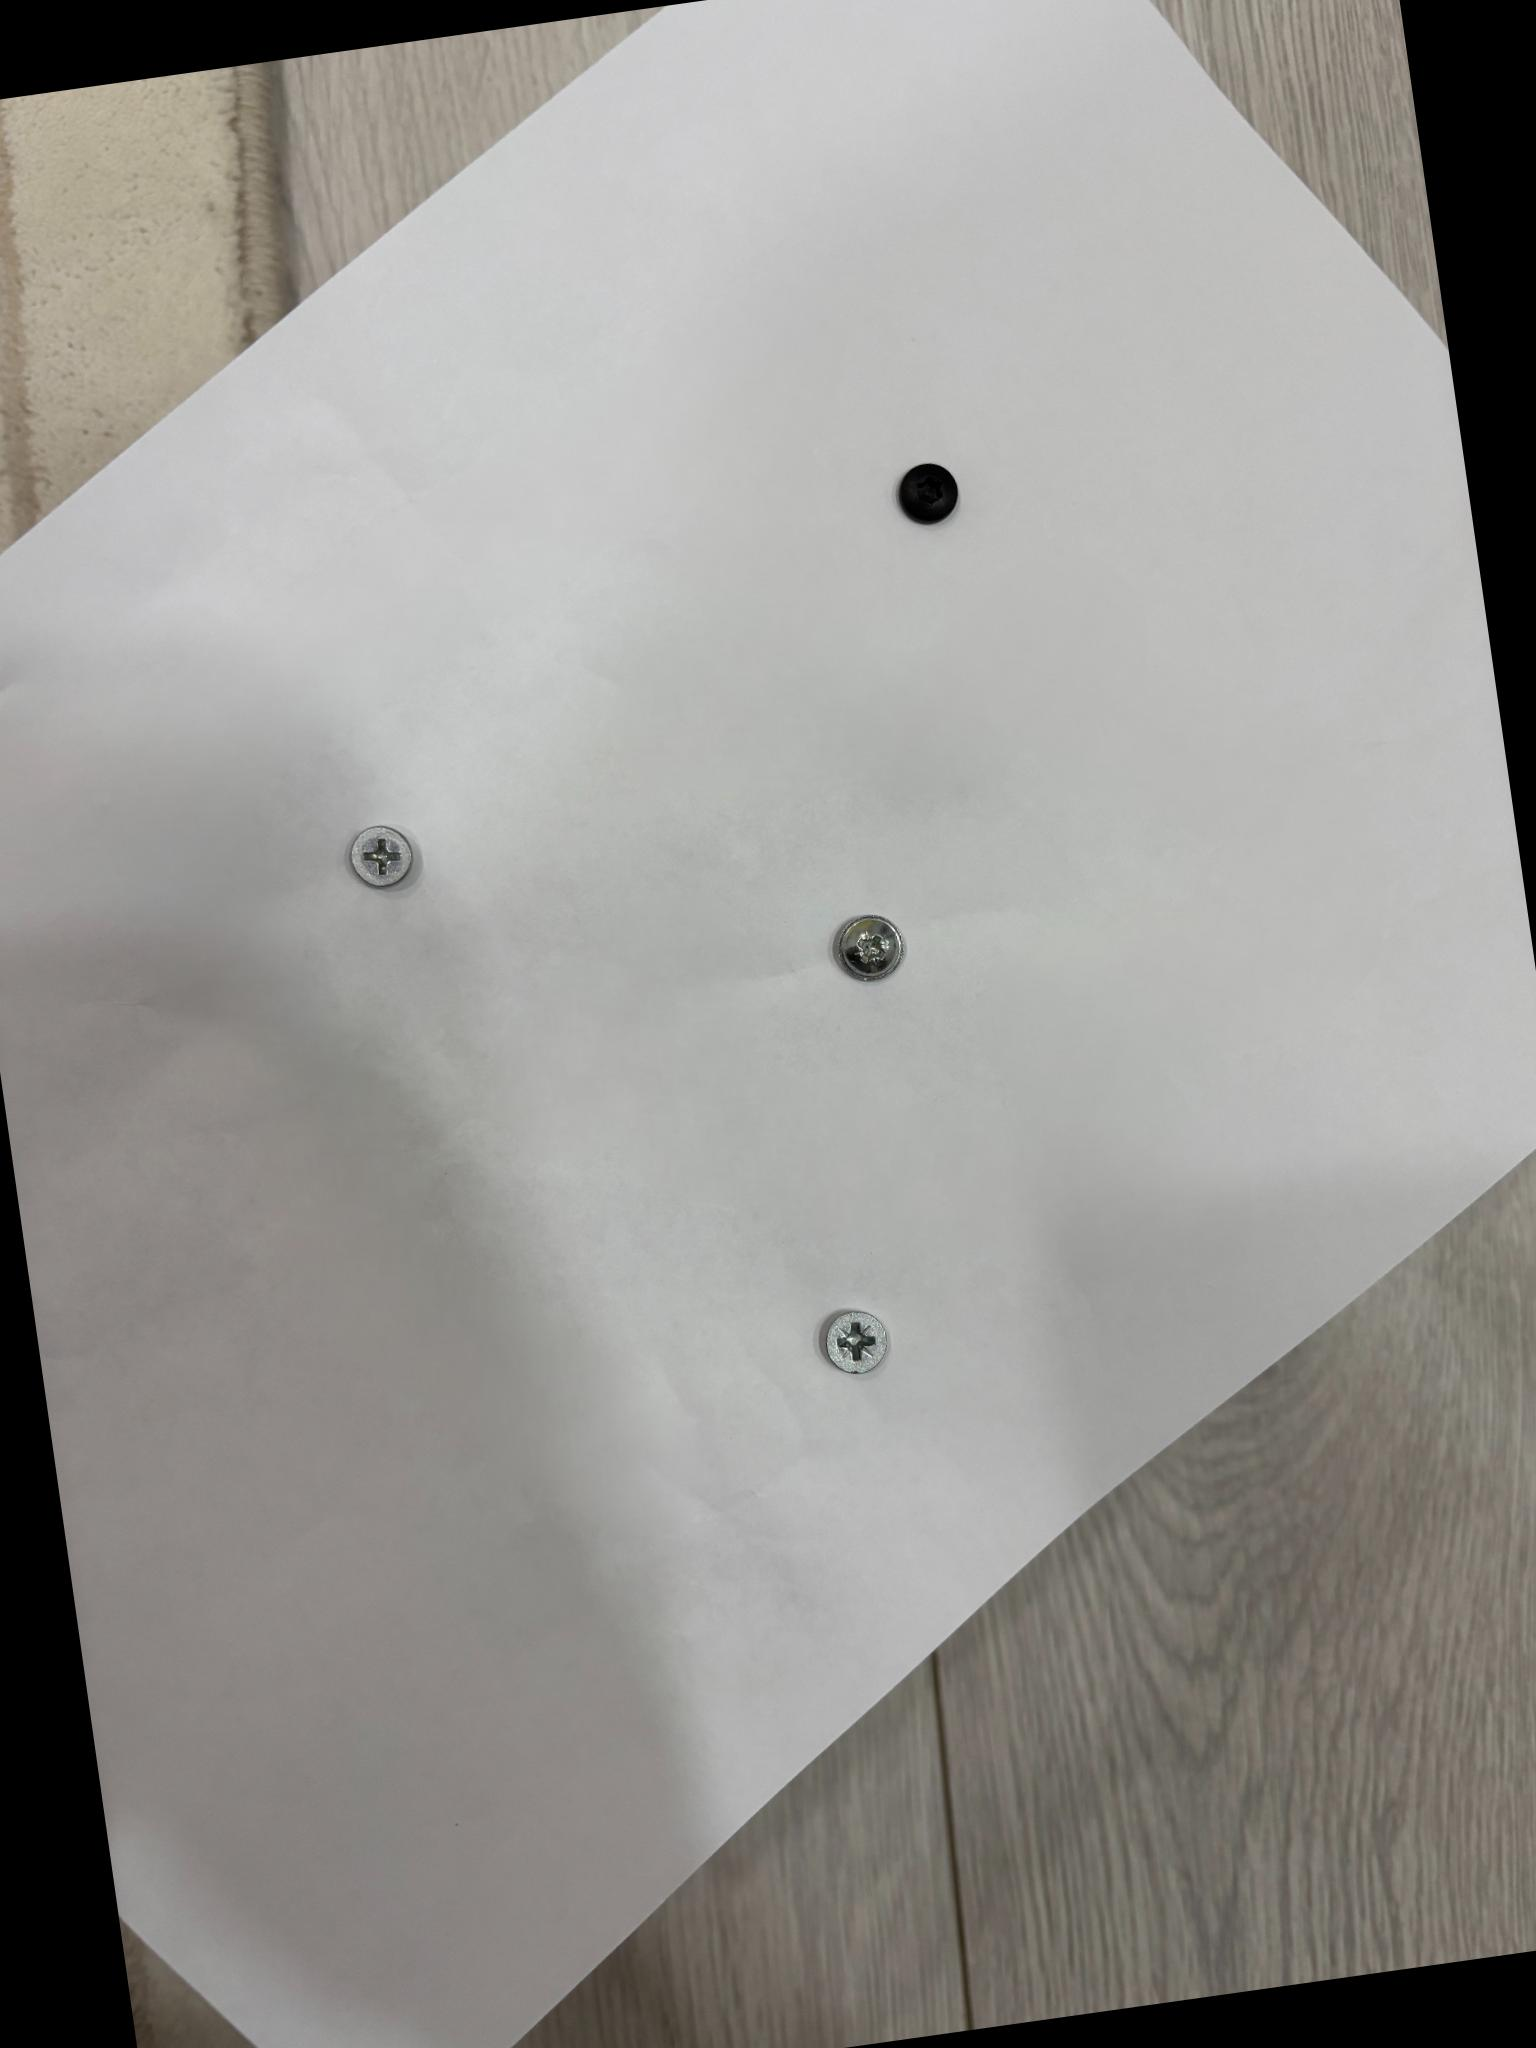H: (897, 461, 957, 524)
PH: (833, 914, 902, 979), (349, 826, 411, 887)
PZ: (823, 1308, 887, 1374)
